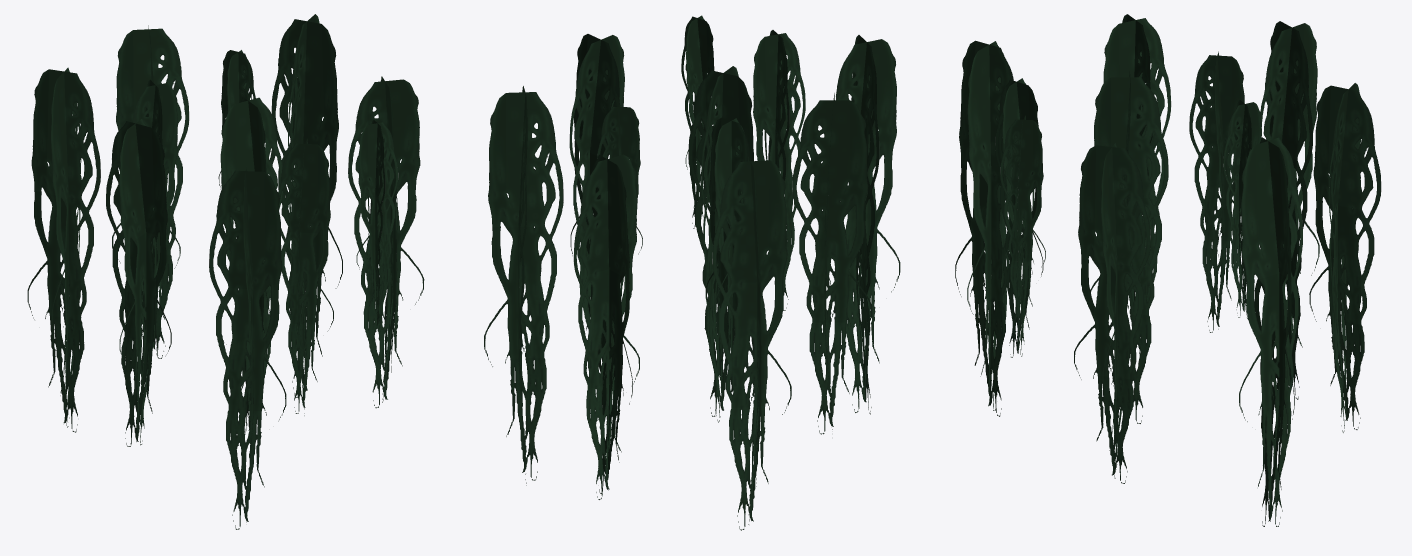
The model's file is AO Moss Cluster.fbx.
3 views of the same model, side by side, from view 1: azimuth 30°, elevation 25°; view 2: azimuth 150°, elevation 25°; view 3: azimuth 270°, elevation 25° (orthographic). The views are drawn at different scales.
Parts seen in each view (by area): view 1: Moss Cluster_LOD0; view 2: Moss Cluster_LOD0; view 3: Moss Cluster_LOD0.
Part boxes in pixels (x1=…): Moss Cluster_LOD0: x1=27, y1=14, x2=424, y2=529; Moss Cluster_LOD0: x1=484, y1=15, x2=900, y2=530; Moss Cluster_LOD0: x1=955, y1=14, x2=1381, y2=526.
Size of what is drawn, in the model's own units: 684 by 779 by 808.
